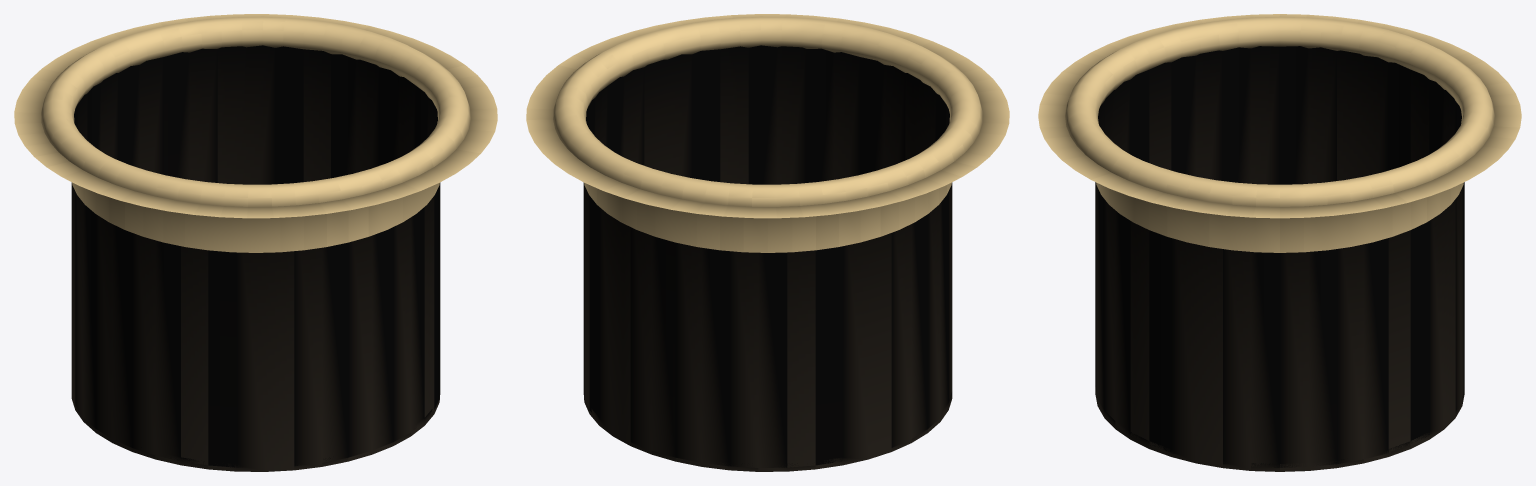
Rendered from cup.glb.
The picture shows the model from 3 angles, left to right: view 1: azimuth 30°, elevation 25°; view 2: azimuth 150°, elevation 25°; view 3: azimuth 270°, elevation 25°; orthographic projection.
Visible parts, largest first — view 1: CupMesh; view 2: CupMesh; view 3: CupMesh.
Part boxes in pixels (x1,y1,x2,y2): CupMesh: (14, 14, 497, 471); CupMesh: (526, 14, 1009, 471); CupMesh: (1038, 14, 1521, 471).
Size of the model in its own units: 55 by 36.51 by 55.
